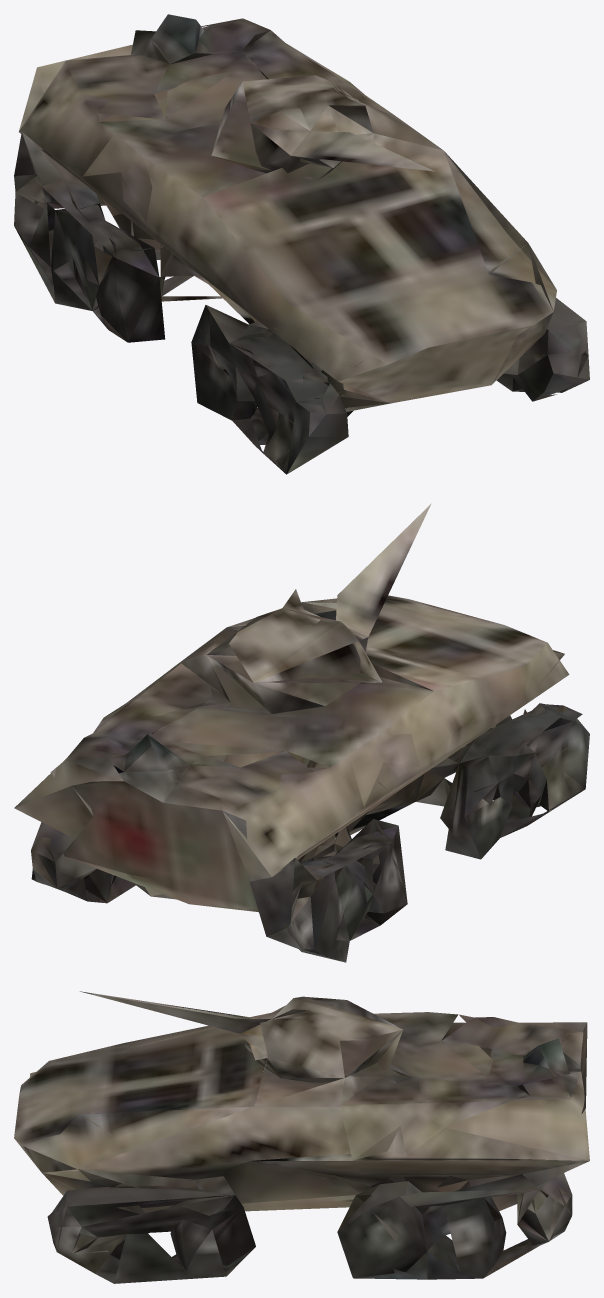
The model's file is apc_1599468211_lod0m.glb.
3 renders of one model, top to bottom at view 1: azimuth 30°, elevation 25°; view 2: azimuth 150°, elevation 25°; view 3: azimuth 270°, elevation 25°, orthographic. The views are drawn at different scales.
Size of the model in its own units: 3.84 by 3.34 by 7.46.
1 material, 1 textured.
